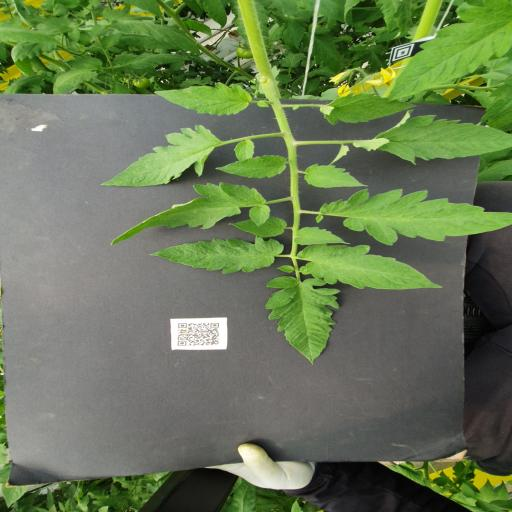Healthy: (386, 0, 511, 103), (320, 188, 512, 246), (110, 182, 270, 246), (353, 109, 512, 165), (99, 124, 219, 188), (297, 244, 443, 290), (265, 276, 340, 365), (150, 236, 284, 275), (153, 82, 252, 116), (111, 19, 201, 56), (321, 92, 418, 125), (52, 56, 102, 94), (302, 32, 344, 74), (216, 154, 288, 178), (478, 83, 512, 132), (304, 163, 368, 189), (113, 52, 194, 69), (228, 216, 288, 238), (277, 16, 310, 50), (293, 227, 351, 246), (196, 0, 228, 29), (477, 159, 512, 180), (280, 54, 305, 68), (305, 77, 320, 92)
